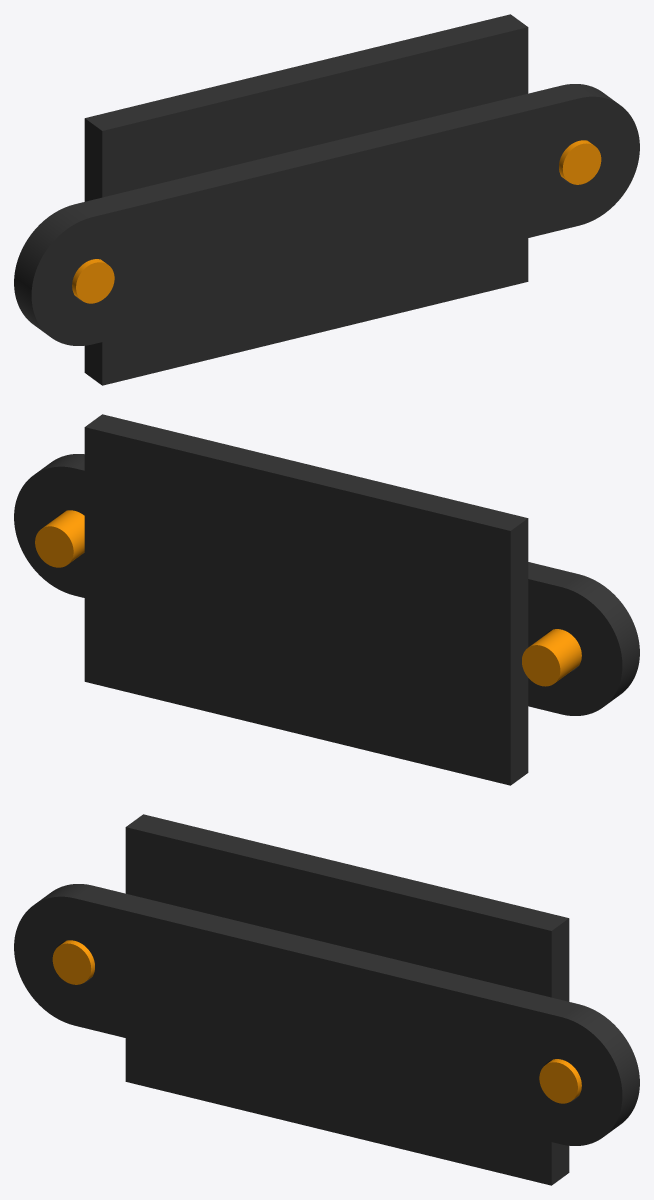
Rendered from assembly.glb.
3 renders of one model, top to bottom at view 1: azimuth 30°, elevation 25°; view 2: azimuth 150°, elevation 25°; view 3: azimuth 330°, elevation 25°, orthographic.
Visible parts, largest first — view 1: linkage-120x24/body, linkage-120x24/base-plate, linkage-120x24/pivot-pin-a, linkage-120x24/pivot-pin-b; view 2: linkage-120x24/base-plate, linkage-120x24/body, linkage-120x24/pivot-pin-a, linkage-120x24/pivot-pin-b; view 3: linkage-120x24/body, linkage-120x24/base-plate, linkage-120x24/pivot-pin-b, linkage-120x24/pivot-pin-a.
Boxes of the visible parts, x1,y1,x2,y2 form: linkage-120x24/body: (14, 84, 639, 345); linkage-120x24/base-plate: (84, 14, 528, 385); linkage-120x24/pivot-pin-a: (72, 259, 114, 303); linkage-120x24/pivot-pin-b: (559, 140, 601, 184); linkage-120x24/base-plate: (84, 414, 528, 785); linkage-120x24/body: (14, 454, 639, 715); linkage-120x24/pivot-pin-a: (522, 629, 581, 686); linkage-120x24/pivot-pin-b: (35, 510, 84, 567); linkage-120x24/body: (14, 884, 639, 1145); linkage-120x24/base-plate: (125, 814, 569, 1185); linkage-120x24/pivot-pin-b: (539, 1059, 581, 1103); linkage-120x24/pivot-pin-a: (52, 940, 94, 984).
Bounding box in the file's own units: 0.12 × 0.048 × 0.014.
